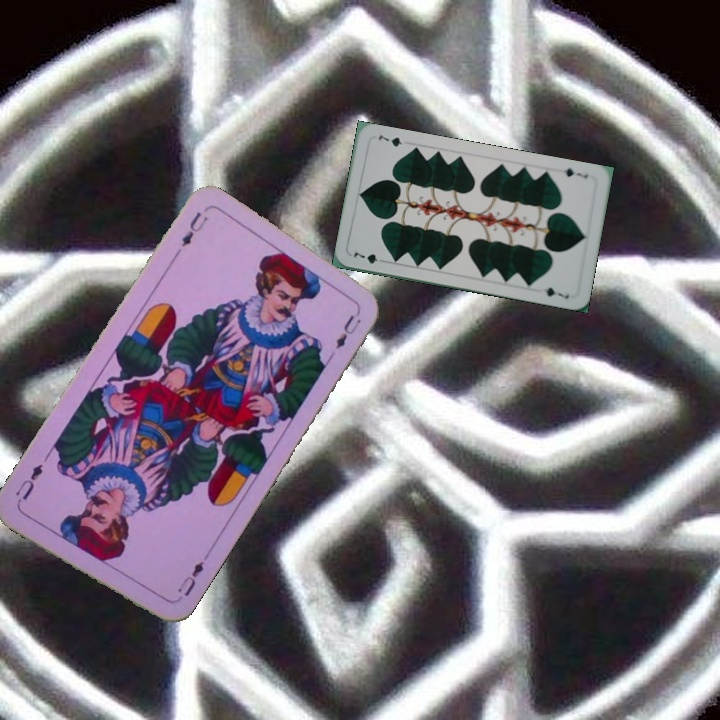EU: (171, 556, 207, 605), (177, 208, 210, 250)
G7: (349, 247, 389, 266), (560, 164, 590, 181)
